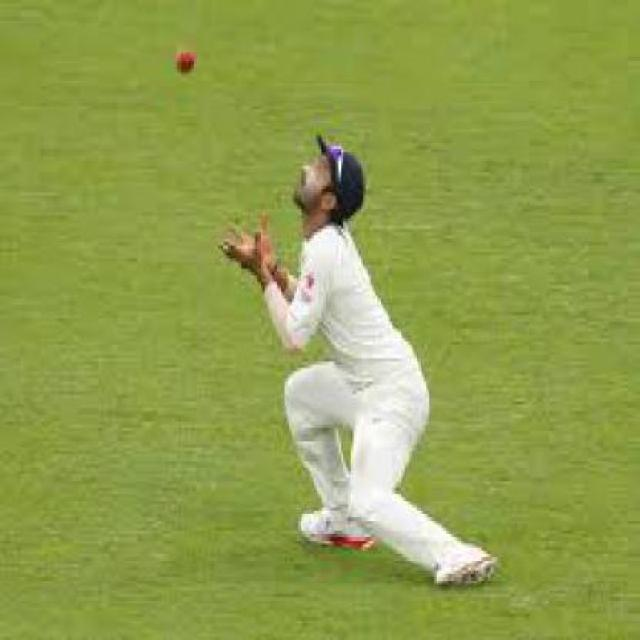ball: (156, 32, 224, 98)
